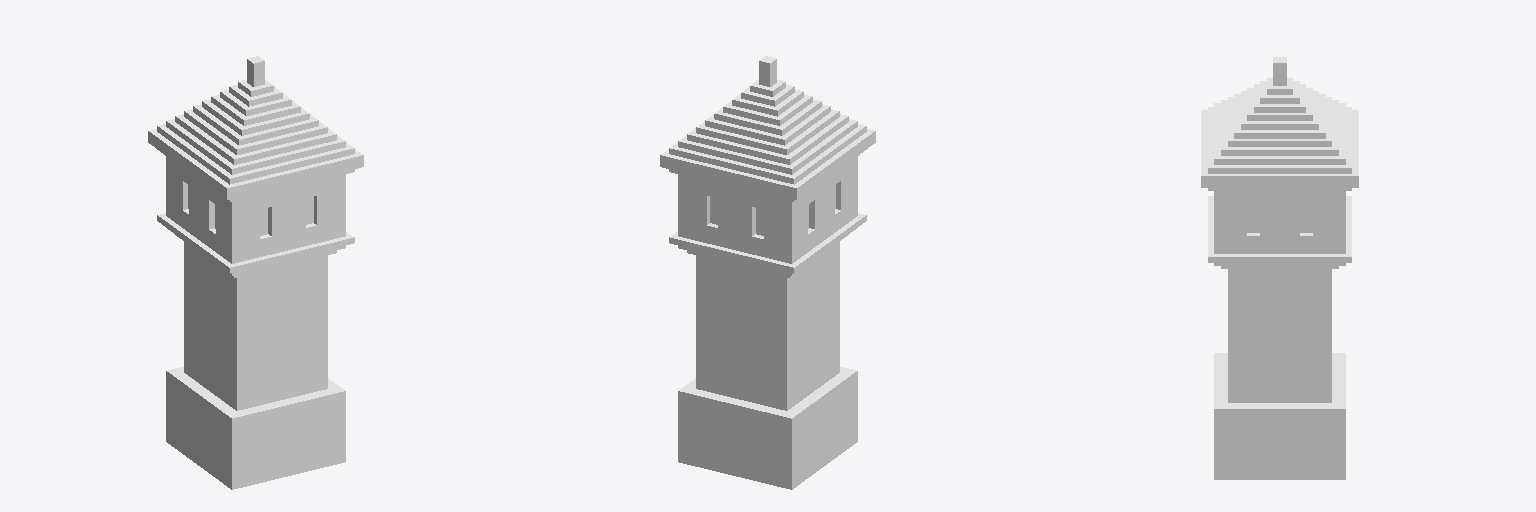
The model's file is tower-light.obj.
3 views of the same model, side by side, from view 1: azimuth 30°, elevation 25°; view 2: azimuth 150°, elevation 25°; view 3: azimuth 270°, elevation 25° (orthographic).
Visible parts, largest first — view 1: object 1; view 2: object 1; view 3: object 1.
Boxes of the visible parts, x1=… form: object 1: x1=148, y1=56, x2=363, y2=489; object 1: x1=660, y1=56, x2=875, y2=489; object 1: x1=1201, y1=57, x2=1358, y2=479.
Size of the model in its own units: 2.4 by 6.6 by 2.4.